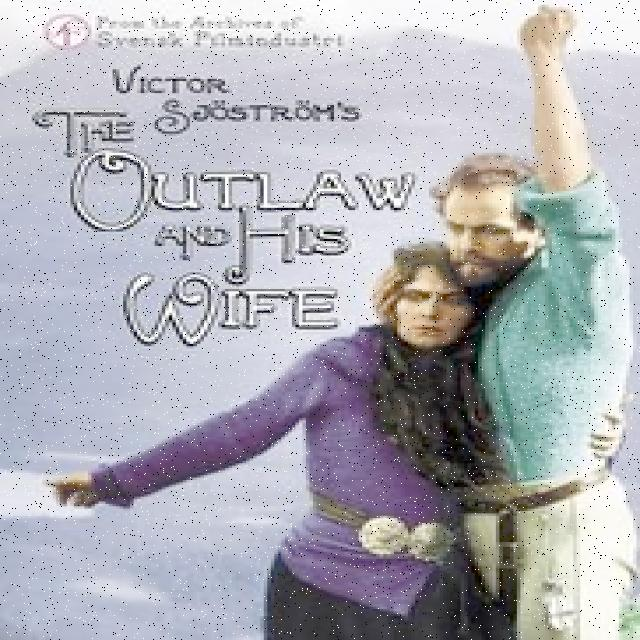movie-judul: (33, 63, 416, 348)
picture: (45, 5, 640, 640)
